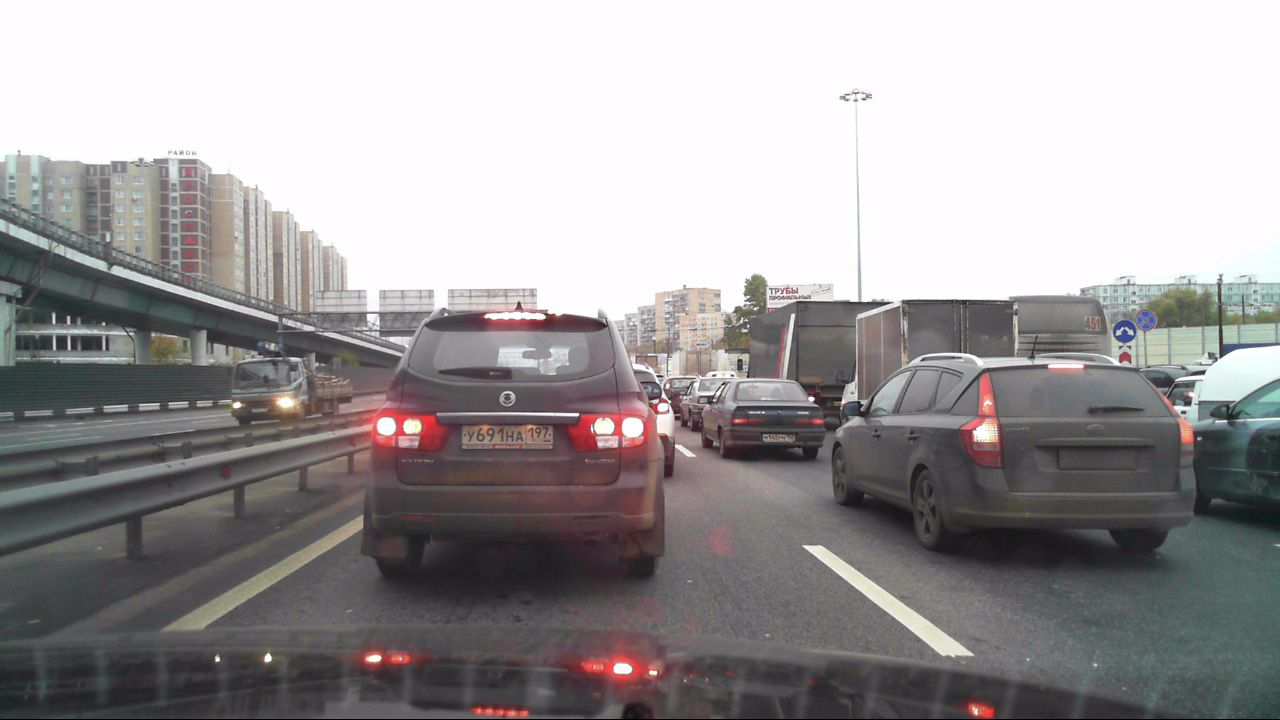No Parking: (1133, 309, 1154, 332)
